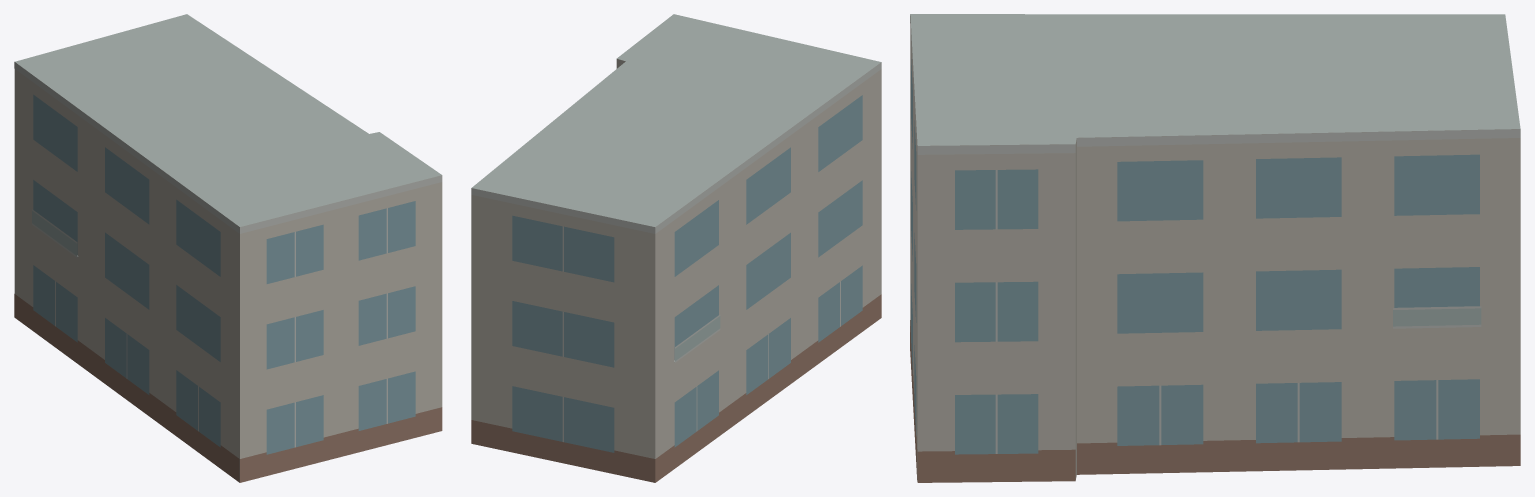
Rendered from survey-upis-32670373.glb.
The picture shows the model from 3 angles, left to right: view 1: azimuth 30°, elevation 25°; view 2: azimuth 150°, elevation 25°; view 3: azimuth 270°, elevation 25°; orthographic projection. The views are drawn at different scales.
Parts seen in each view (by area): view 1: survey-upis-32670373.tmp; view 2: survey-upis-32670373.tmp; view 3: survey-upis-32670373.tmp.
Boxes of the visible parts, x1=… form: survey-upis-32670373.tmp: x1=14, y1=14, x2=442, y2=482; survey-upis-32670373.tmp: x1=471, y1=14, x2=881, y2=482; survey-upis-32670373.tmp: x1=910, y1=14, x2=1520, y2=482.
Size of the model in its own units: 7.71 by 9.15 by 15.03.
